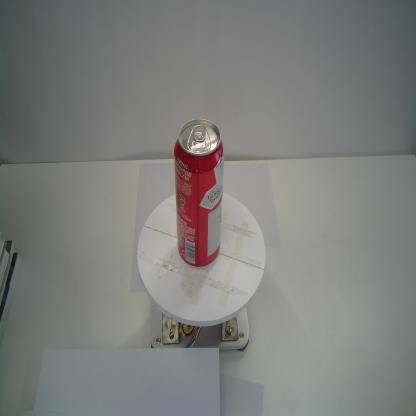Alcohol: (173, 118, 225, 269)
